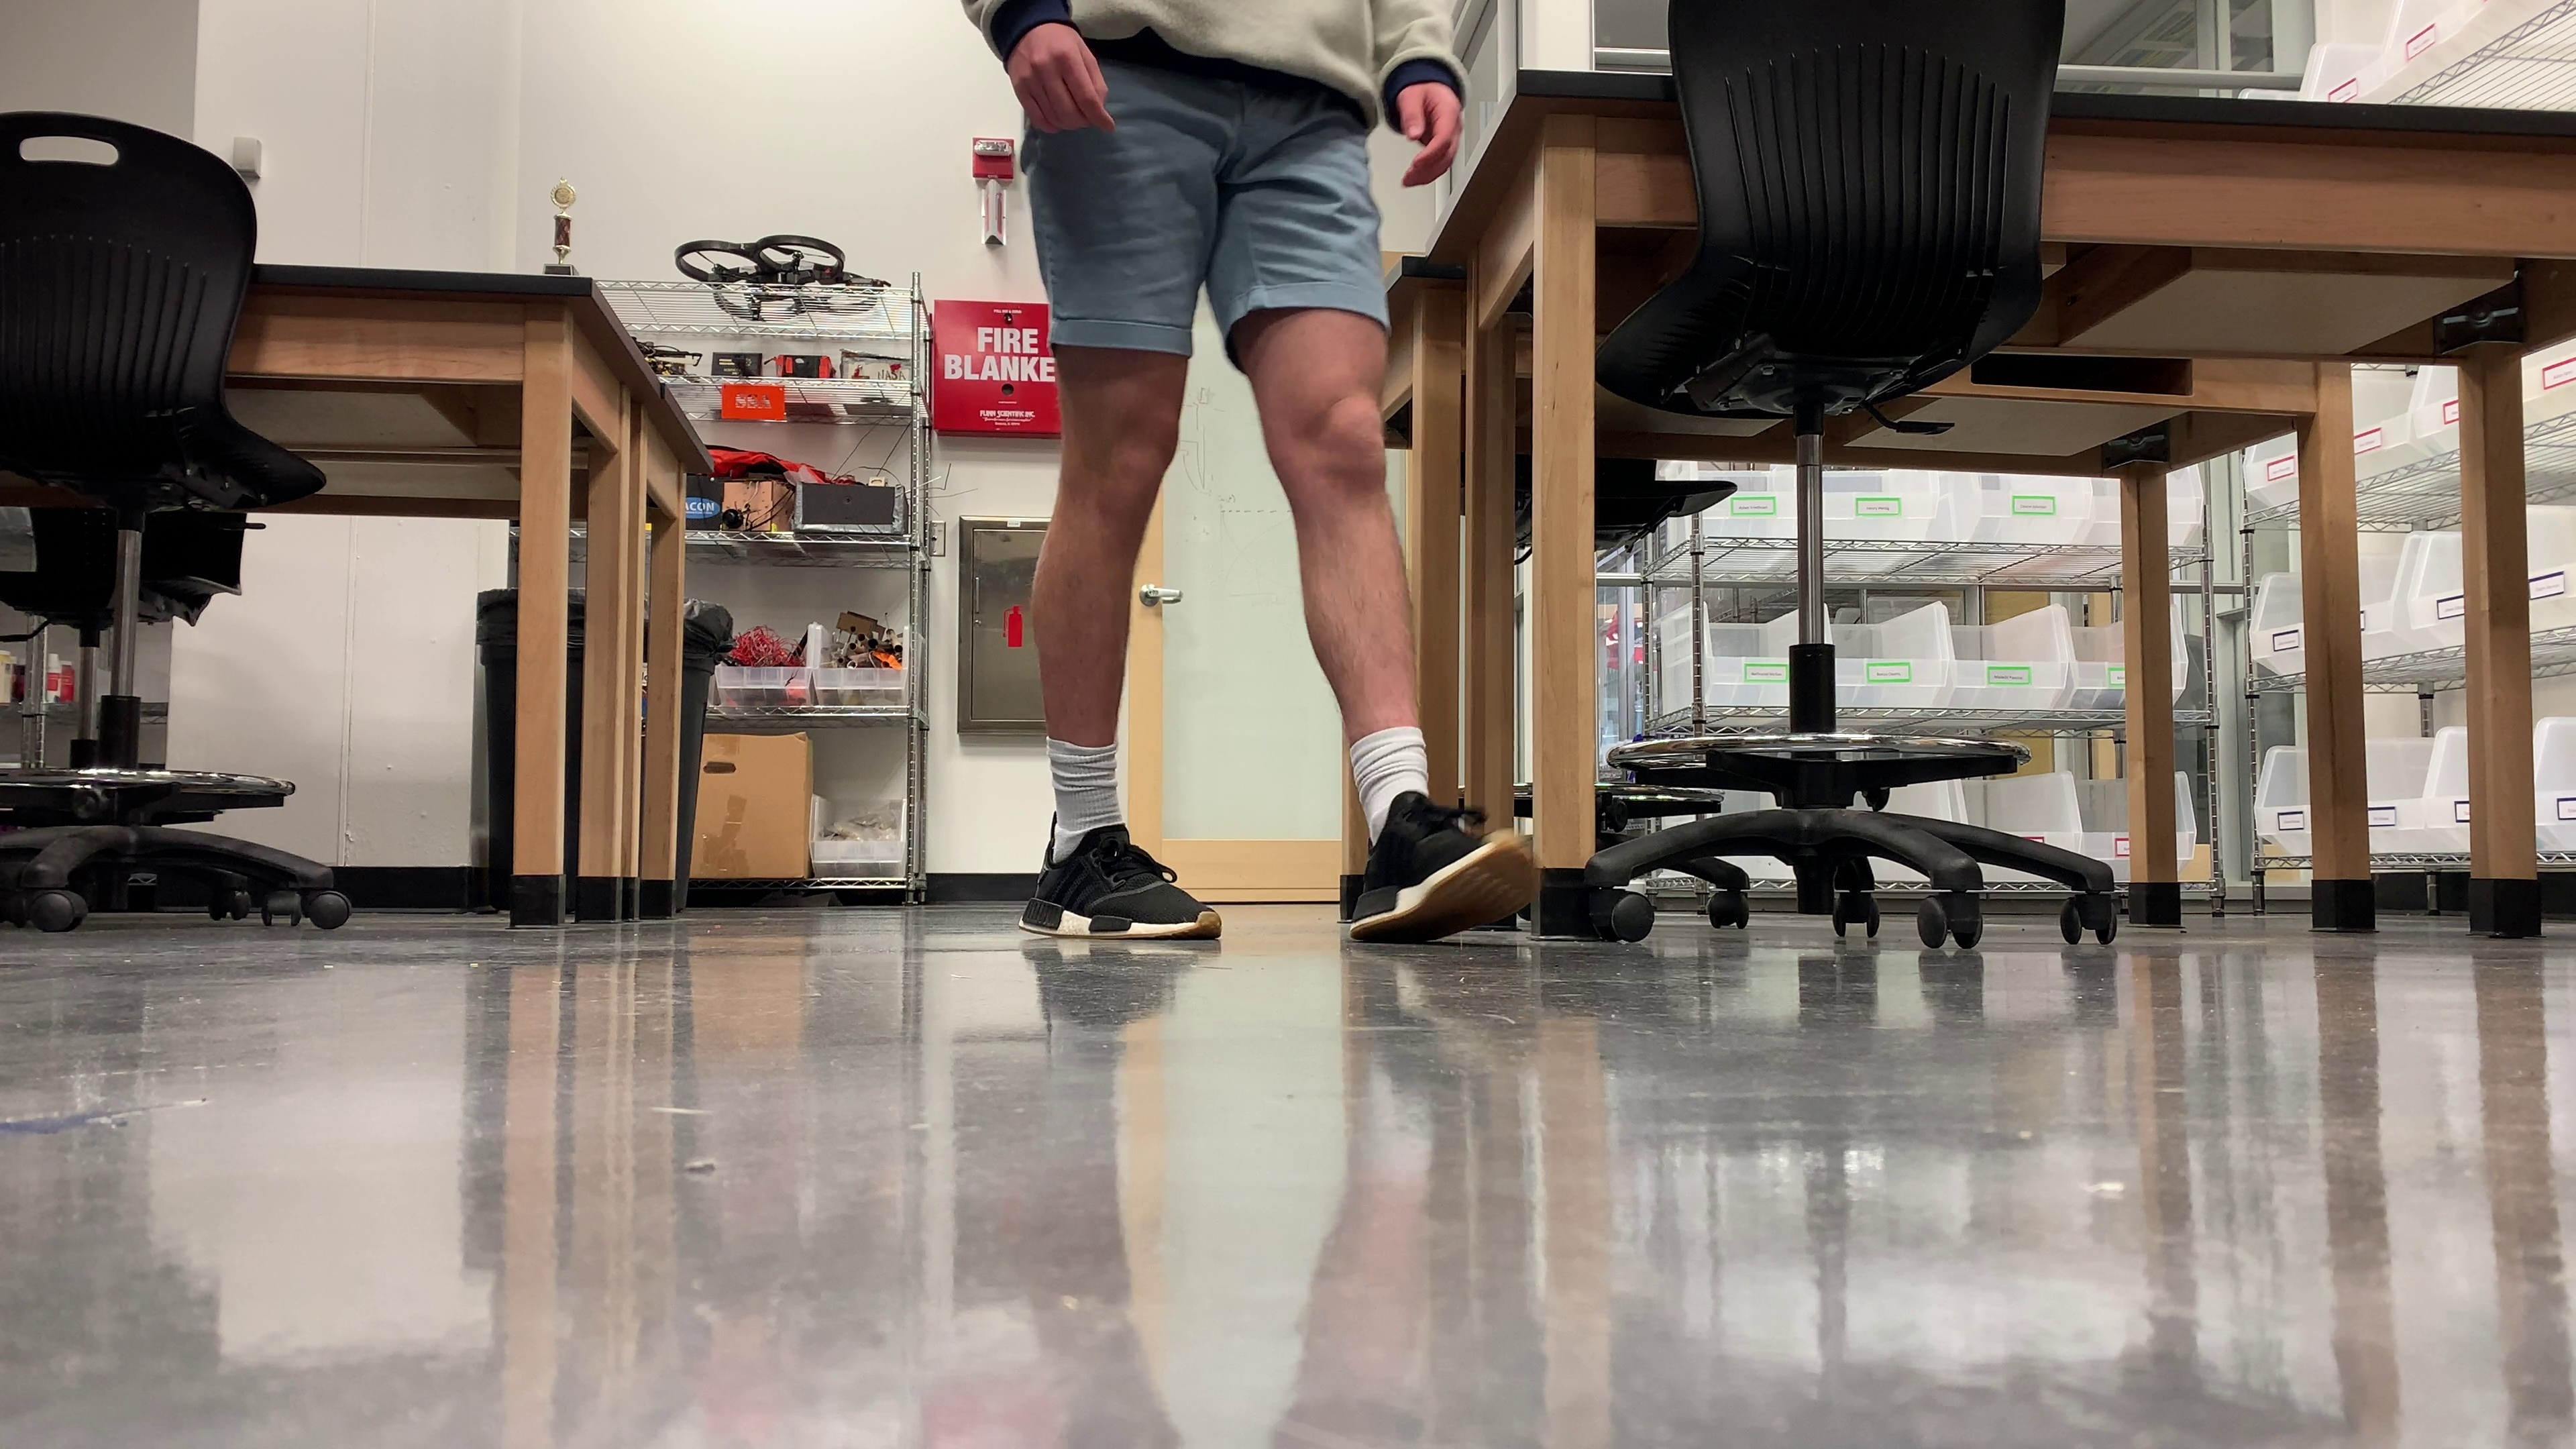shoe: (1352, 789, 1539, 943), (1019, 826, 1221, 941)
